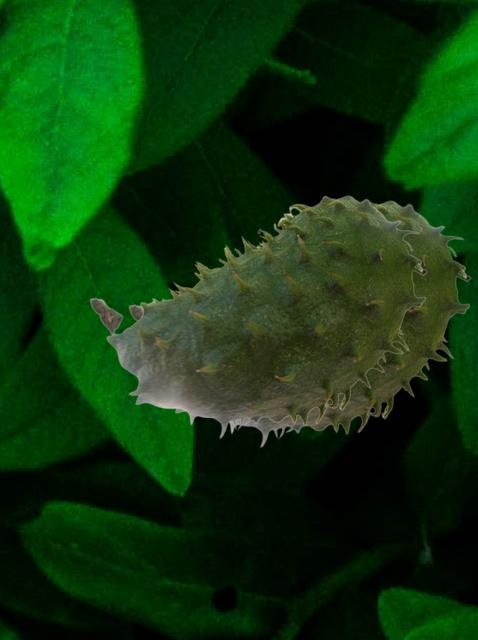guyabano: (128, 200, 470, 447), (89, 195, 426, 438)
